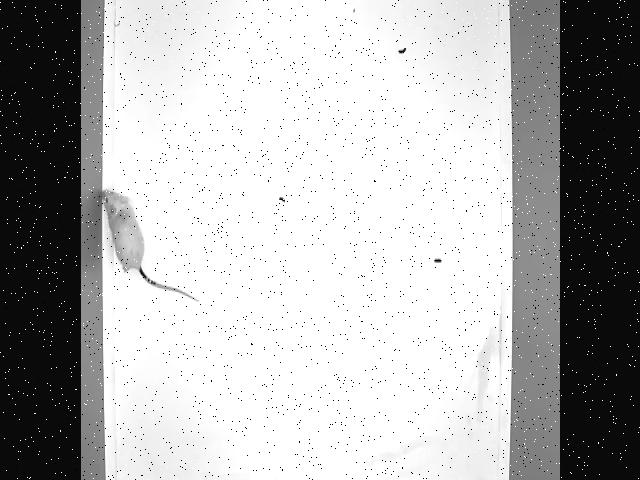Tikus: (99, 188, 201, 304)
